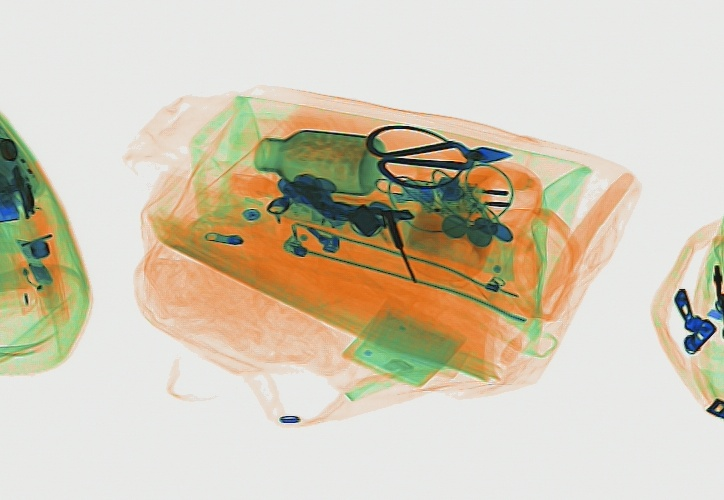scissors: (366, 123, 513, 192)
